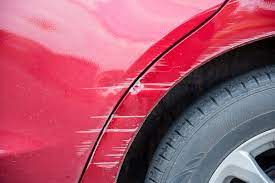scratch: (70, 115, 137, 172), (97, 62, 173, 106)
